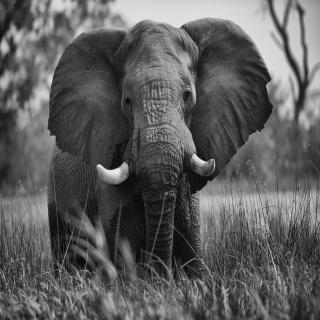Elephant: (39, 12, 276, 291)
